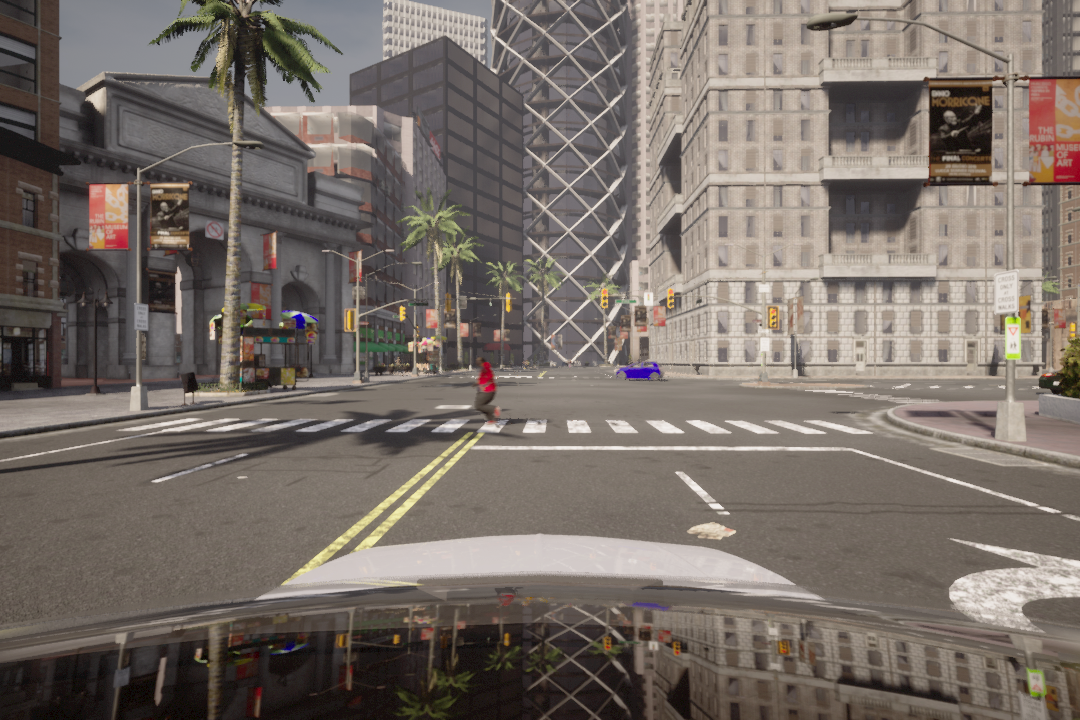TrafficLight: (767, 306, 779, 331), (599, 287, 611, 311), (667, 287, 677, 311)
TrafficSign: (207, 221, 223, 241)
walkside: (133, 414, 879, 442)
